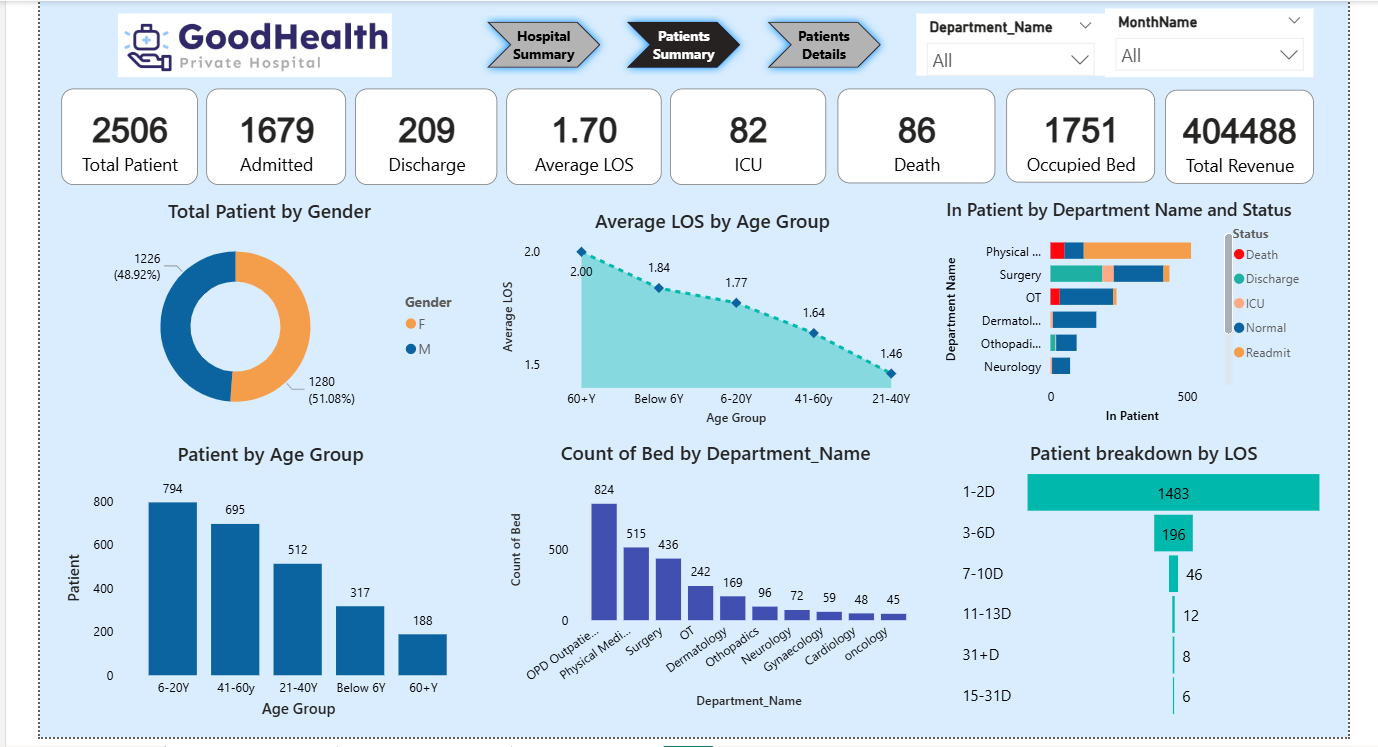

Layout of this report page (visuals, bound fields, positions):
{"tool":"powerbi","page":{"name":"Patients Summary ","canvas":[1280,720],"ordinal":1},"visuals":[{"type":"cardVisual","fields":{"Data":["Measure.Total Patient"]},"box":[20.8,85.6,133.3,94.2],"z":0},{"type":"slicer","fields":{"Values":["Department.Department_Name"]},"box":[857.2,12.2,184.6,61.1],"z":2000},{"type":"slicer","fields":{"Values":["Calendar_date.MonthName"]},"box":[1041.9,7.3,204.2,67.3],"z":3000},{"type":"cardVisual","fields":{"Data":["Measure.In Patient"]},"box":[162.6,85.6,137,94.2],"z":4000},{"type":"cardVisual","fields":{"Data":["Measure.Total Discharge"]},"box":[308.2,85.6,139.4,94.2],"z":5000},{"type":"cardVisual","fields":{"Data":["Measure.Avarage LOS"]},"box":[456.1,85.6,151.6,94.2],"z":6000},{"type":"cardVisual","fields":{"Data":["Measure.ICU"]},"box":[616.3,85.6,152.9,94.2],"z":7000},{"type":"cardVisual","fields":{"Data":["Measure.Death"]},"box":[780.2,85.6,154.1,92.9],"z":8000},{"type":"cardVisual","fields":{"Data":["Measure.Occupied Bed"]},"box":[945.2,85.6,145.5,91.7],"z":9000},{"type":"cardVisual","fields":{"Data":["Measure.Total Revenue"]},"box":[1100.2,86.8,145.5,91.7],"z":10000},{"type":"donutChart","fields":{"Category":["Detail data dataset.Gender"],"Y":["Measure.Total Patient"]},"box":[20.8,192,407.2,228.7],"z":11000},{"type":"columnChart","fields":{"Y":["Measure.Total Patient"],"Category":["Detail data dataset.Age Bucket"]},"box":[22,430.4,407.2,276.4],"z":12000},{"type":"areaChart","fields":{"Y":["Measure.Avarage LOS"],"Category":["Detail data dataset.Age Bucket"]},"box":[447.6,201.8,420.7,218.9],"z":13000},{"type":"barChart","fields":{"Category":["Department.Department_Name"],"Y":["Measure.In Patient"],"Series":["Detail data dataset.Status"]},"box":[881.4,191.9,364.3,226.1],"z":14000},{"type":"funnel","title":"Patient breakdown by LOS","fields":{"Y":["Measure.Total Patient"],"Category":["Detail data dataset.Custom"]},"box":[897.2,429.1,364.3,277.5],"z":15000},{"type":"clusteredColumnChart","fields":{"Category":["Department.Department_Name"],"Y":["CountNonNull(Detail data dataset.Bed)"]},"box":[456,429.1,409.5,267.7],"z":16000},{"type":"pageNavigator","box":[429.2,12.2,402.3,61.1],"z":17000},{"type":"actionButton","box":[366.8,20.8,121.1,46.5],"z":17001},{"type":"image","box":[12.2,7.3,396.2,72.1],"z":17003}]}

Visuals, with their boxes on the page's 1280x720 design canvas (x1, y1, x2, y2). These are canvas units, not pixel positions in the 1378x747 screenshot, which may show the page scaled, cropped or inside an application window:
cardVisual - Measure.Total Patient: bbox=[21, 86, 154, 180]
slicer - Department.Department_Name: bbox=[857, 12, 1042, 73]
slicer - Calendar_date.MonthName: bbox=[1042, 7, 1246, 75]
cardVisual - Measure.In Patient: bbox=[163, 86, 300, 180]
cardVisual - Measure.Total Discharge: bbox=[308, 86, 448, 180]
cardVisual - Measure.Avarage LOS: bbox=[456, 86, 608, 180]
cardVisual - Measure.ICU: bbox=[616, 86, 769, 180]
cardVisual - Measure.Death: bbox=[780, 86, 934, 178]
cardVisual - Measure.Occupied Bed: bbox=[945, 86, 1091, 177]
cardVisual - Measure.Total Revenue: bbox=[1100, 87, 1246, 178]
donutChart - Detail data dataset.Gender x Measure.Total Patient: bbox=[21, 192, 428, 421]
columnChart - Measure.Total Patient x Detail data dataset.Age Bucket: bbox=[22, 430, 429, 707]
areaChart - Measure.Avarage LOS x Detail data dataset.Age Bucket: bbox=[448, 202, 868, 421]
barChart - Department.Department_Name x Measure.In Patient: bbox=[881, 192, 1246, 418]
"Patient breakdown by LOS" funnel: bbox=[897, 429, 1262, 707]
clusteredColumnChart - Department.Department_Name x CountNonNull(Detail data dataset.Bed): bbox=[456, 429, 866, 697]
pageNavigator: bbox=[429, 12, 832, 73]
actionButton: bbox=[367, 21, 488, 67]
image: bbox=[12, 7, 408, 79]
